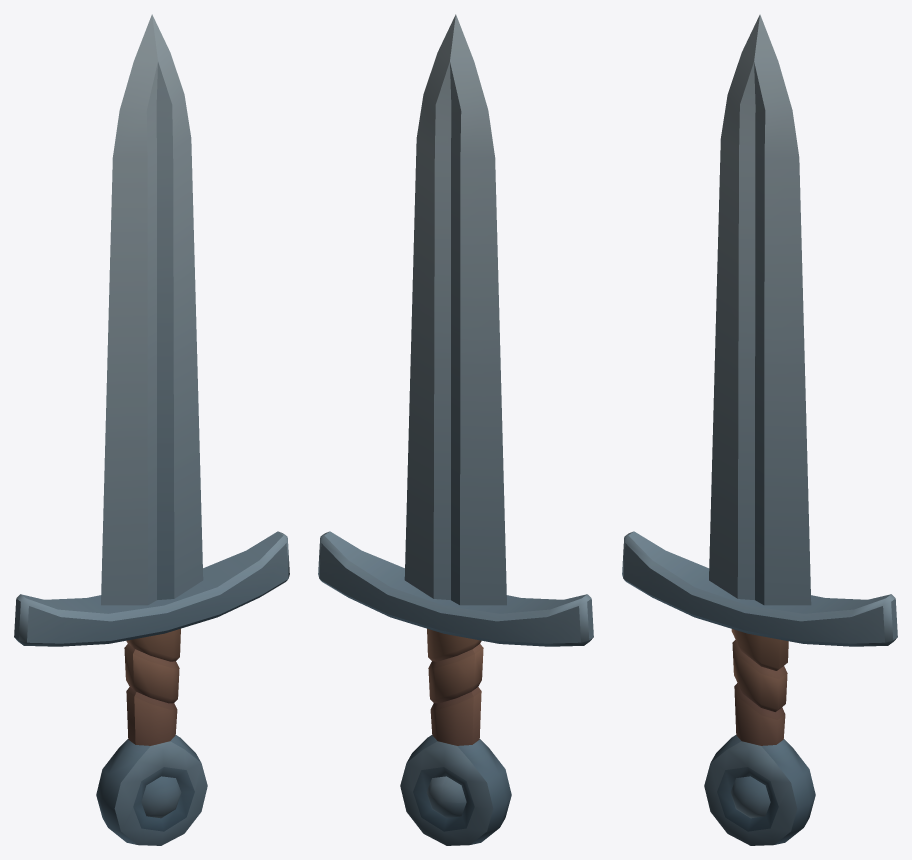
The model's file is sword_B.glb.
3 views of the same model, side by side, from view 1: azimuth 30°, elevation 25°; view 2: azimuth 150°, elevation 25°; view 3: azimuth 330°, elevation 25° (orthographic).
Parts seen in each view (by area): view 1: sword_B; view 2: sword_B; view 3: sword_B.
Boxes of the visible parts, left/top/right/bottom form: sword_B: left=14, top=14, right=289, bottom=845; sword_B: left=318, top=14, right=593, bottom=845; sword_B: left=622, top=14, right=897, bottom=845.
Size of the model in its own units: 0.6109 by 1.79 by 0.1202.
Materials: 1 (1 with a texture image).
